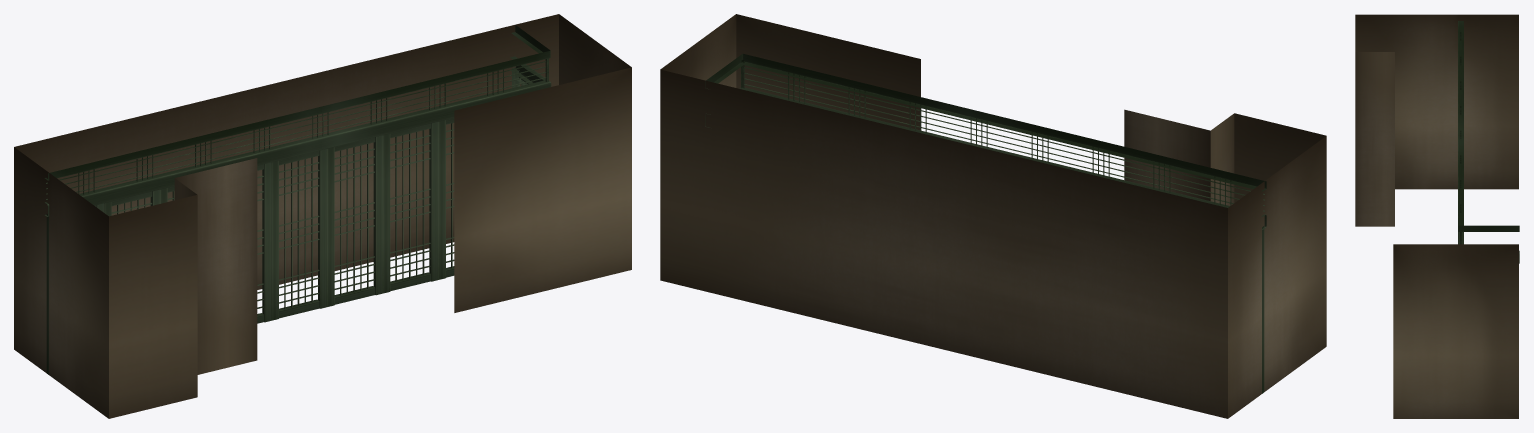
The model's file is TraditionalKoreanHouse_PassageWall.fbx.
3 renders of one model, left to right at view 1: azimuth 30°, elevation 25°; view 2: azimuth 150°, elevation 25°; view 3: azimuth 270°, elevation 25°, orthographic. The views are drawn at different scales.
Visible parts, largest first — view 1: TraditionalKoreanHouse_PassageWall; view 2: TraditionalKoreanHouse_PassageWall; view 3: TraditionalKoreanHouse_PassageWall.
Part boxes in pixels (x1,y1,x2,y2): TraditionalKoreanHouse_PassageWall: [14, 14, 631, 418]; TraditionalKoreanHouse_PassageWall: [660, 14, 1326, 418]; TraditionalKoreanHouse_PassageWall: [1355, 14, 1519, 418].
Bounding box in the file's own units: 742 × 263 × 224.
